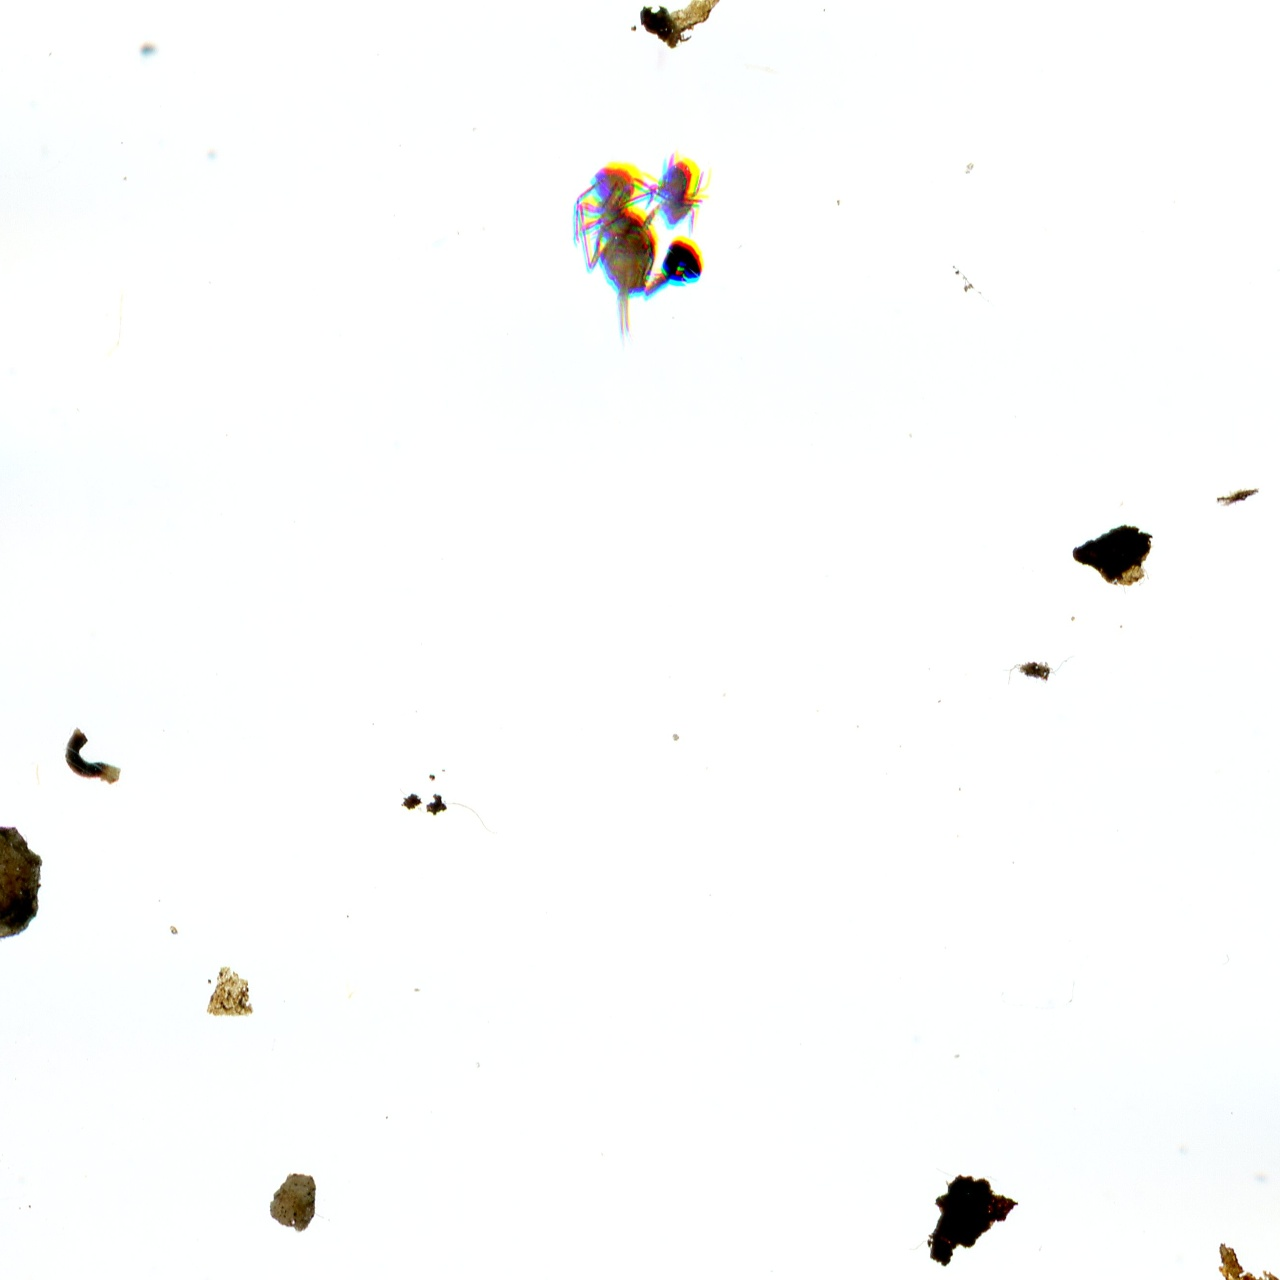arthropod: (565, 157, 662, 346), (635, 152, 720, 244)
